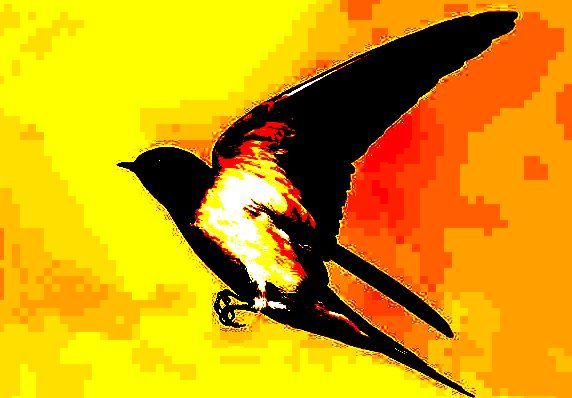Bird: (115, 8, 518, 396)
